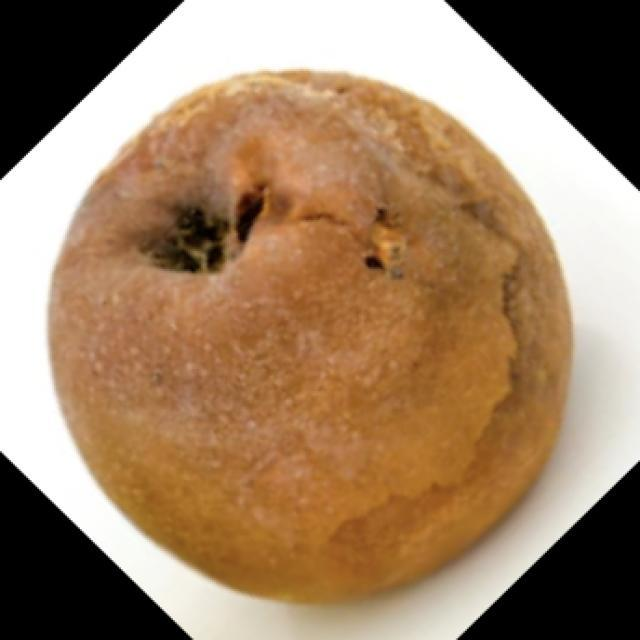Rotten: (77, 67, 583, 603)
